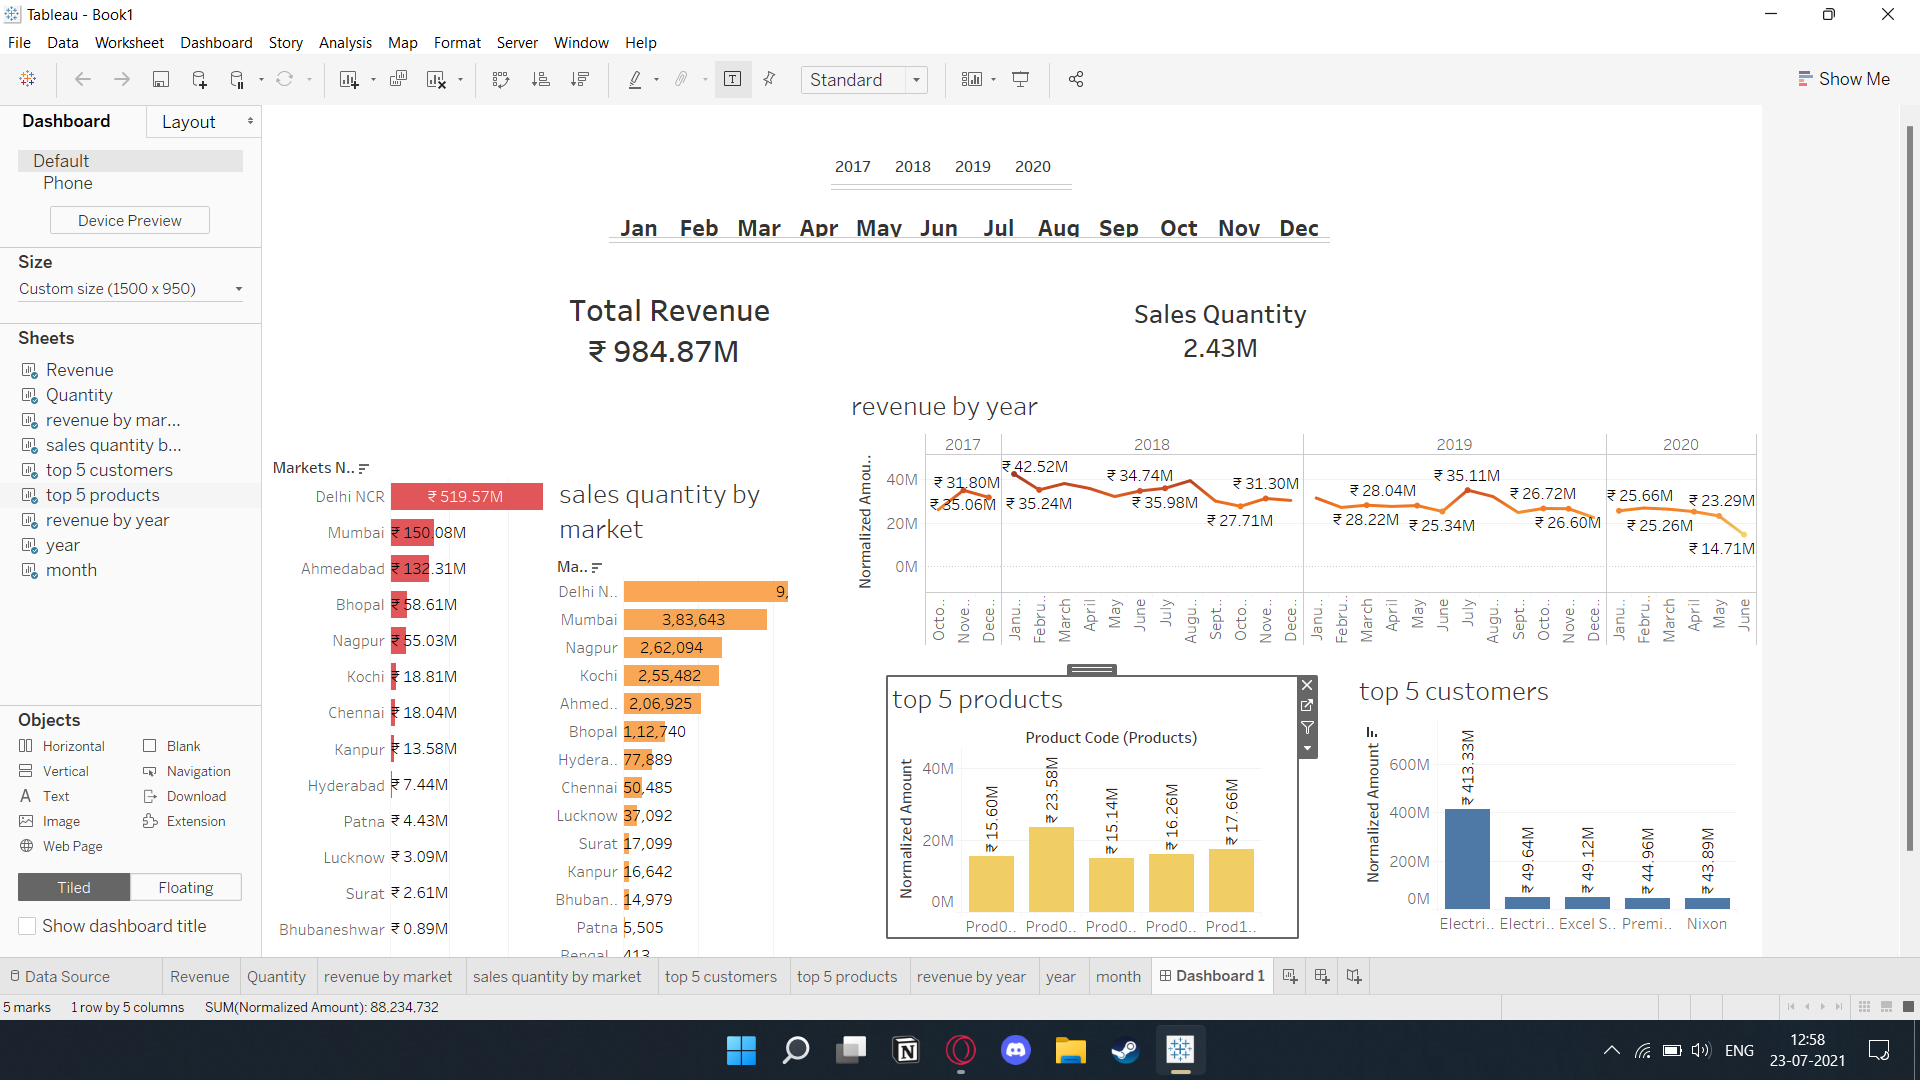

The page's visual inventory and layout, read from the dashboard file:
{"tool":"tableau","page":{"name":"Dashboard 1","canvas":[1500,950],"ordinal":0},"visuals":[{"type":"worksheet","title":"year ","mark":"Automatic","cols":["cy_date"],"box":[569,43,408,60]},{"type":"worksheet","title":"month","mark":"Automatic","cols":["cy_date"],"box":[347,112,1086,31]},{"type":"worksheet","title":"Revenue","mark":"Automatic","box":[282,184,373,128]},{"type":"worksheet","title":"Quantity","mark":"Automatic","box":[859,191,315,123]},{"type":"worksheet","title":"revenue by year","mark":"Automatic","rows":["Calculation_1270859586995646464"],"cols":["cy_date","cy_date"],"box":[585,279,911,262]},{"type":"worksheet","title":"revenue by market","mark":"Automatic","rows":["markets_name"],"cols":["Calculation_1270859586995646464"],"box":[8,353,281,588]},{"type":"worksheet","title":"sales quantity by market","mark":"Automatic","rows":["markets_name"],"cols":["sales_qty"],"box":[293,367,233,581]},{"type":"worksheet","title":"top 5 customers","mark":"Automatic","rows":["Calculation_1270859586995646464"],"cols":["custmer_name"],"box":[1093,564,406,280]},{"type":"worksheet","title":"top 5 products","mark":"Automatic","rows":["Calculation_1270859586995646464"],"cols":["product_code (products)"],"box":[626,572,409,260]}]}

Visuals, with their boxes on the page's 1500x950 design canvas (x1, y1, x2, y2). These are canvas units, not pixel positions in the 1920x1080 screenshot, which may show the page scaled, cropped or inside an application window:
"year " worksheet: 569/43/977/103
"month" worksheet: 347/112/1433/143
"Revenue" worksheet: 282/184/655/312
"Quantity" worksheet: 859/191/1174/314
"revenue by year" worksheet: 585/279/1496/541
"revenue by market" worksheet: 8/353/289/941
"sales quantity by market" worksheet: 293/367/526/948
"top 5 customers" worksheet: 1093/564/1499/844
"top 5 products" worksheet: 626/572/1035/832
